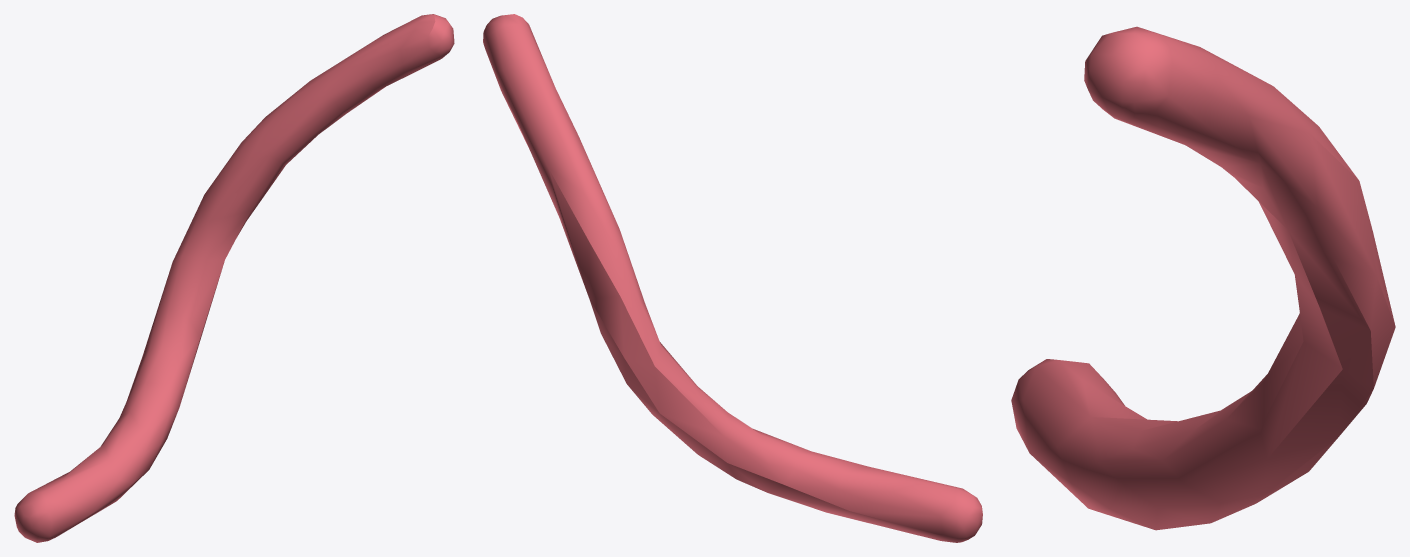
File: fma79581_fj5184.glb
3 views of the same model, side by side, from view 1: azimuth 30°, elevation 25°; view 2: azimuth 150°, elevation 25°; view 3: azimuth 270°, elevation 25° (orthographic). The views are drawn at different scales.
Parts seen in each view (by area): view 1: FMA79581_FJ5184; view 2: FMA79581_FJ5184; view 3: FMA79581_FJ5184.
Boxes of the visible parts, x1,y1,x2,y2 form: FMA79581_FJ5184: (14, 14, 454, 542); FMA79581_FJ5184: (483, 14, 982, 542); FMA79581_FJ5184: (1011, 26, 1395, 530).
Bounding box in the file's own units: 0.019 × 0.0165 × 0.00699.
